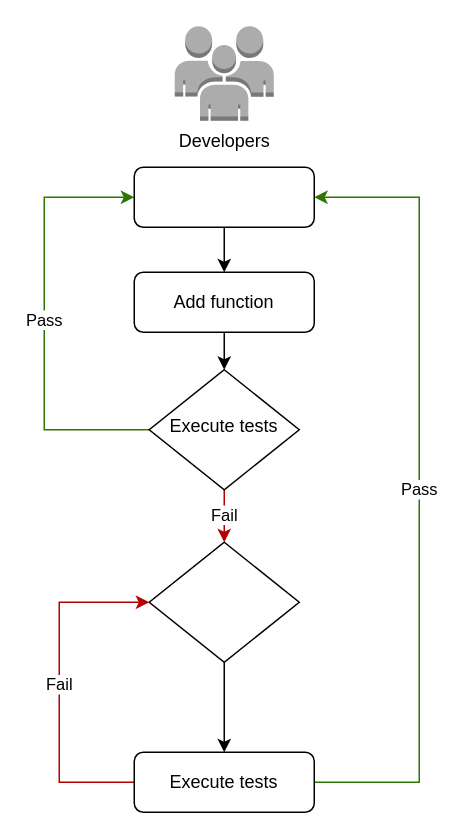
Some shapes in this 462 by 839 pixel diagram are drawn without their labels. Each missing label, with the centre of its shape:
"Add tests" goes at (x=223, y=196).
"Refactor code" goes at (x=223, y=601).
